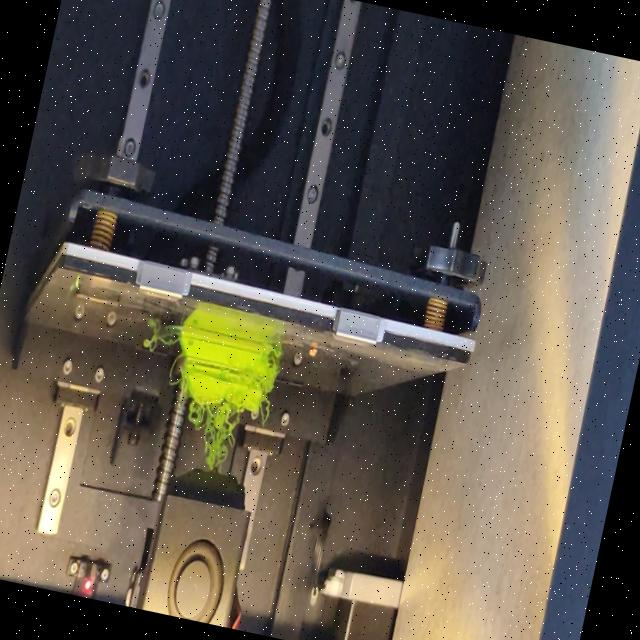spaghetti: (175, 392, 248, 477), (142, 324, 183, 357), (166, 354, 188, 390), (256, 392, 271, 430), (268, 344, 286, 362)
